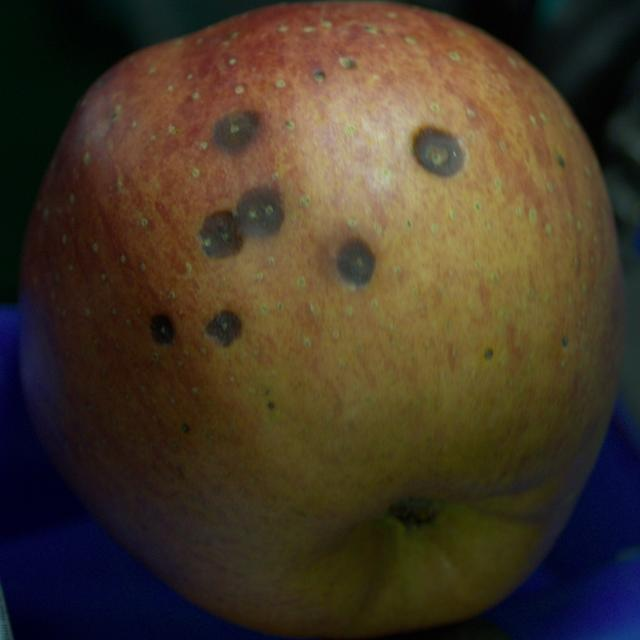apple: (19, 2, 624, 638)
pest: (413, 126, 464, 176), (235, 185, 284, 237), (199, 211, 242, 257), (212, 111, 259, 152), (336, 239, 375, 287), (206, 311, 241, 346), (150, 314, 174, 344), (339, 58, 356, 68), (556, 153, 564, 168), (314, 71, 325, 81), (484, 348, 493, 359), (181, 423, 189, 432), (562, 336, 568, 348), (268, 401, 274, 409)
